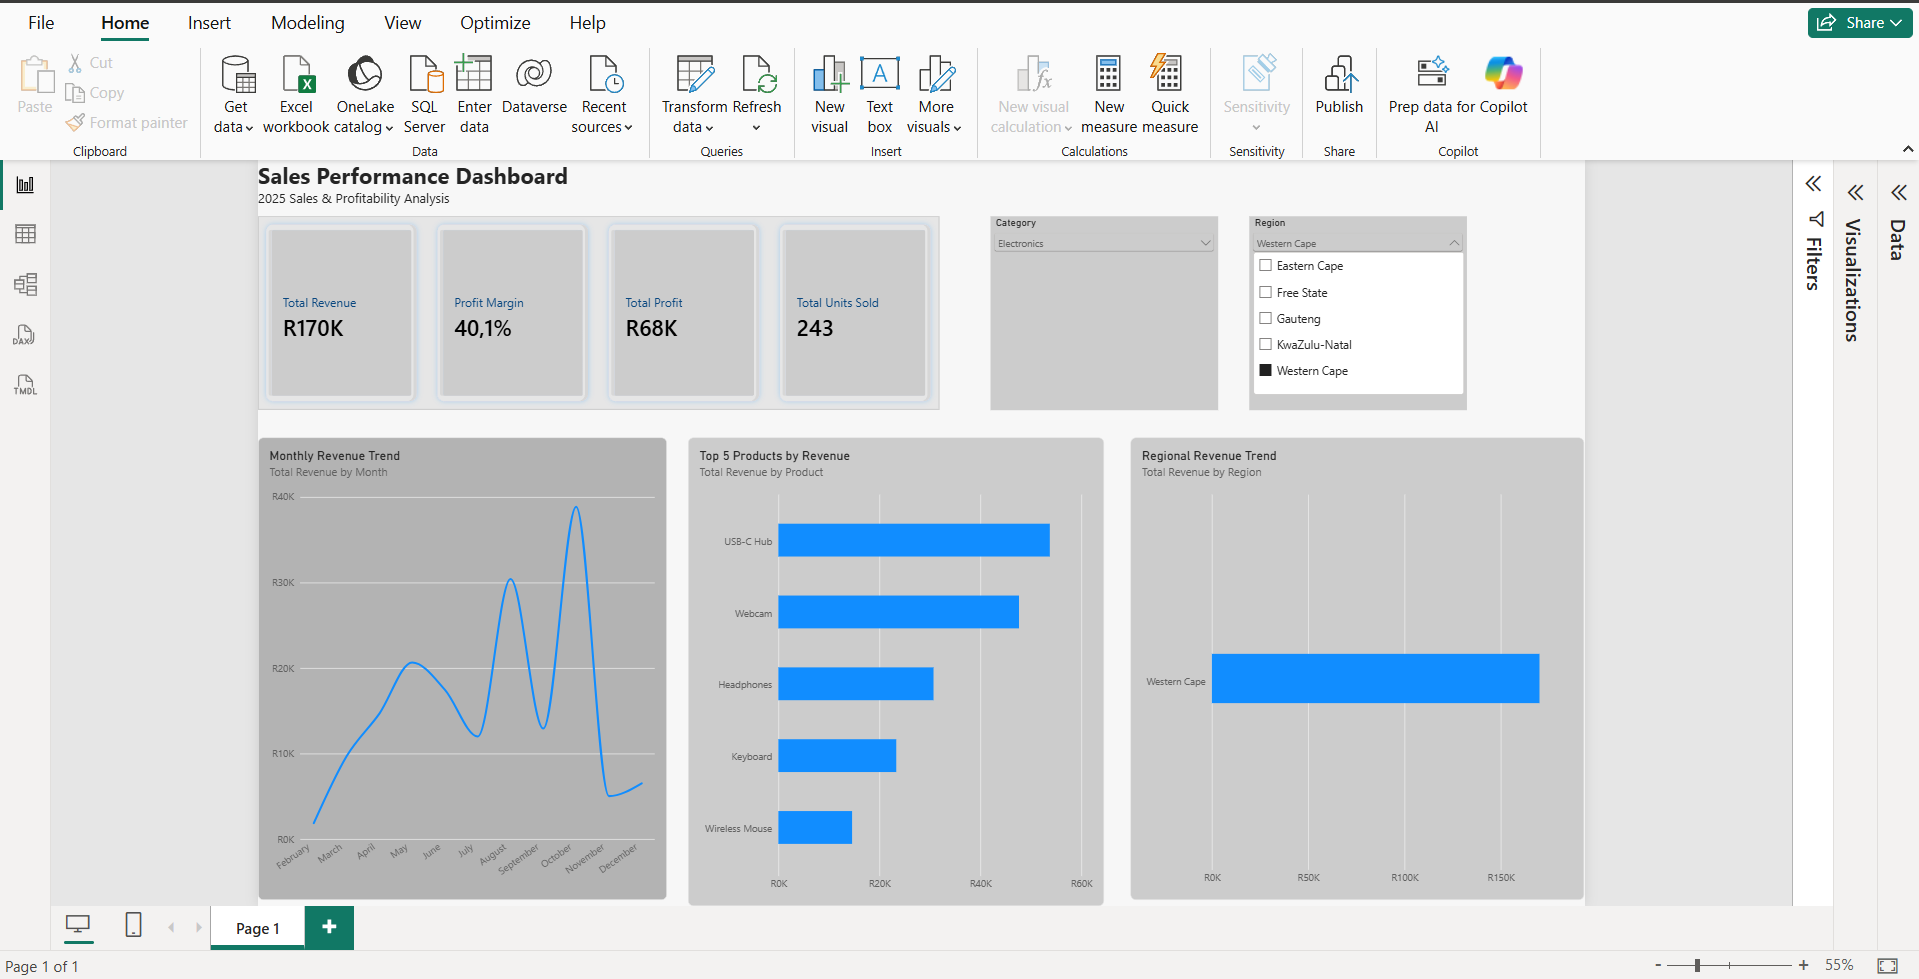

This screenshot's page, from the dashboard's own definition file:
{"tool":"powerbi","page":{"name":"Page 1","canvas":[1920,1080],"ordinal":0},"visuals":[{"type":"cardVisual","fields":{"Data":["Sales_Data.Total Revenue","Sales_Data.Profit Margin","Sales_Data.Total Profit","Sales_Data.Total Units Sold"]},"box":[0,81.2,988.1,280.5],"z":0},{"type":"lineChart","title":"Monthly Revenue Trend","fields":{"Category":["Sales_Data.Order Date.Variation.Date Hierarchy.Year","Sales_Data.Order Date.Variation.Date Hierarchy.Quarter","Sales_Data.Order Date.Variation.Date Hierarchy.Month","Sales_Data.Order Date.Variation.Date Hierarchy.Day"],"Y":["Sales_Data.Total Revenue"]},"box":[0,401.7,591.8,669.6],"z":1},{"type":"clusteredBarChart","title":"Regional Revenue Trend","fields":{"Category":["Sales_Data.Region"],"Y":["Sales_Data.Total Revenue"]},"box":[1263.1,401.7,656.9,669.6],"z":2},{"type":"clusteredBarChart","title":"Top 5 Products by Revenue","fields":{"Category":["Sales_Data.Product"],"Y":["Sales_Data.Total Revenue"]},"box":[622.5,401.7,602.6,678.6],"z":3},{"type":"slicer","fields":{"Values":["Sales_Data.Region"]},"box":[1435.1,81.4,314.9,280.5],"z":4},{"type":"slicer","fields":{"Values":["Sales_Data.Category"]},"box":[1060.5,81.4,329.4,280.5],"z":5},{"type":"textbox","box":[0,0,470.5,161.1],"z":6}]}

Visuals, with their boxes on the page's 1920x1080 design canvas (x1, y1, x2, y2). These are canvas units, not pixel positions in the 1919x979 screenshot, which may show the page scaled, cropped or inside an application window:
cardVisual - Sales_Data.Total Revenue x Sales_Data.Profit Margin: region(0, 81, 988, 362)
"Monthly Revenue Trend" lineChart: region(0, 402, 592, 1071)
"Regional Revenue Trend" clusteredBarChart: region(1263, 402, 1920, 1071)
"Top 5 Products by Revenue" clusteredBarChart: region(622, 402, 1225, 1080)
slicer - Sales_Data.Region: region(1435, 81, 1750, 362)
slicer - Sales_Data.Category: region(1060, 81, 1390, 362)
textbox: region(0, 0, 470, 161)
